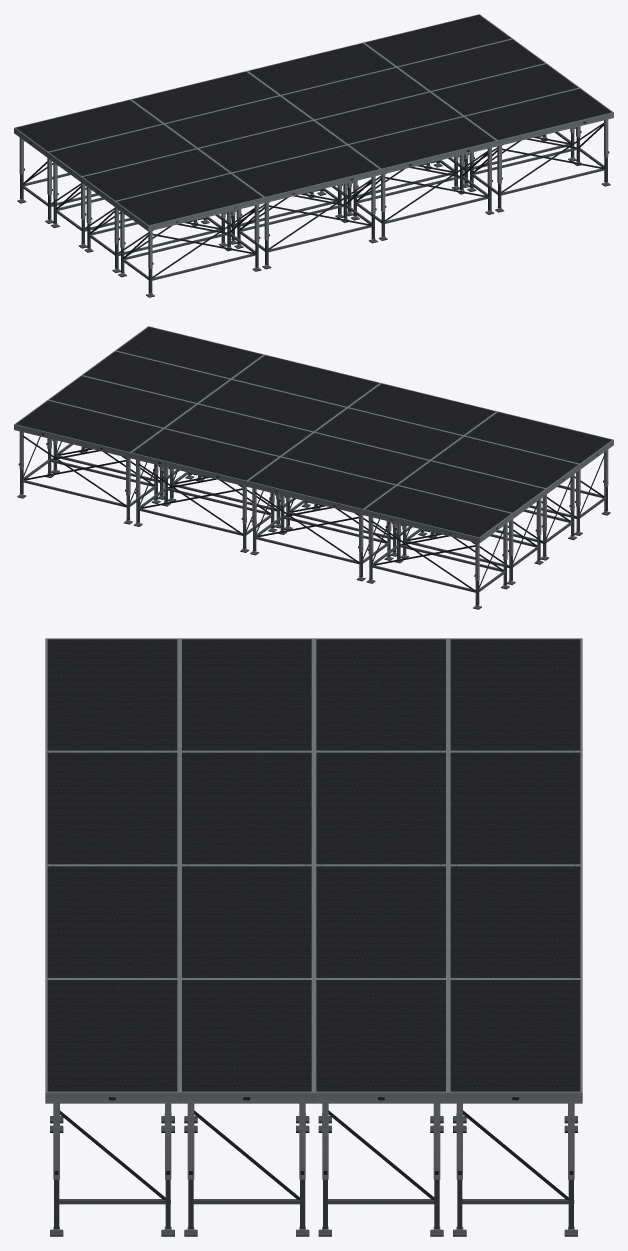
The model's file is assembly_festival_stage_8x4_h120.obj.
3 views of the same model, one above another, from view 1: azimuth 30°, elevation 25°; view 2: azimuth 150°, elevation 25°; view 3: azimuth 270°, elevation 25° (orthographic). The views are drawn at different scales.
Parts seen in each view (by area): view 1: part_7384, part_11074, part_13534, part_17224, part_1234, part_9844, part_12304, part_4, part_3694, part_6154, part_2464, part_4924 (+8 smaller); view 2: part_6154, part_9844, part_12304, part_15994, part_2464, part_11074, part_13534, part_4, part_3694, part_7384, part_1234, part_4924 (+8 smaller); view 3: part_4924, part_8614, part_6154, part_7384, part_4, part_3694, part_9844, part_13534, part_14764, part_18454, part_1234, part_2464 (+8 smaller).
Part boxes in pixels (<box>): part_7384: <box>199,121,345,172</box>; part_11074: <box>282,68,428,119</box>; part_13534: <box>350,117,495,168</box>; part_17224: <box>432,64,578,115</box>; part_1234: <box>49,124,195,175</box>; part_9844: <box>248,43,394,94</box>; part_12304: <box>316,92,461,143</box>; part_4: <box>16,100,161,151</box>; part_3694: <box>117,174,262,225</box>; part_6154: <box>166,96,311,147</box>; part_2464: <box>83,149,228,200</box>; part_4924: <box>132,71,277,122</box>; part_6154: <box>282,433,428,484</box>; part_9844: <box>132,429,277,480</box>; part_12304: <box>199,380,345,431</box>; part_15994: <box>49,376,195,427</box>; part_2464: <box>432,436,578,487</box>; part_11074: <box>166,404,311,455</box>; part_13534: <box>233,355,379,406</box>; part_4: <box>365,486,510,537</box>; part_3694: <box>466,412,611,463</box>; part_7384: <box>316,408,461,459</box>; part_1234: <box>399,461,544,512</box>; part_4924: <box>249,457,394,508</box>; part_4924: <box>450,752,580,864</box>; part_8614: <box>47,752,177,864</box>; part_6154: <box>316,752,445,864</box>; part_7384: <box>182,752,311,864</box>; part_4: <box>450,639,580,750</box>; part_3694: <box>47,639,177,750</box>; part_9844: <box>450,866,580,977</box>; part_13534: <box>47,866,177,977</box>; part_14764: <box>450,980,580,1091</box>; part_18454: <box>47,980,177,1091</box>; part_1234: <box>316,639,445,750</box>; part_2464: <box>182,639,311,750</box>.
Size of the model in its own units: 8 by 1.2 by 4.
3 materials, 3 textured.
